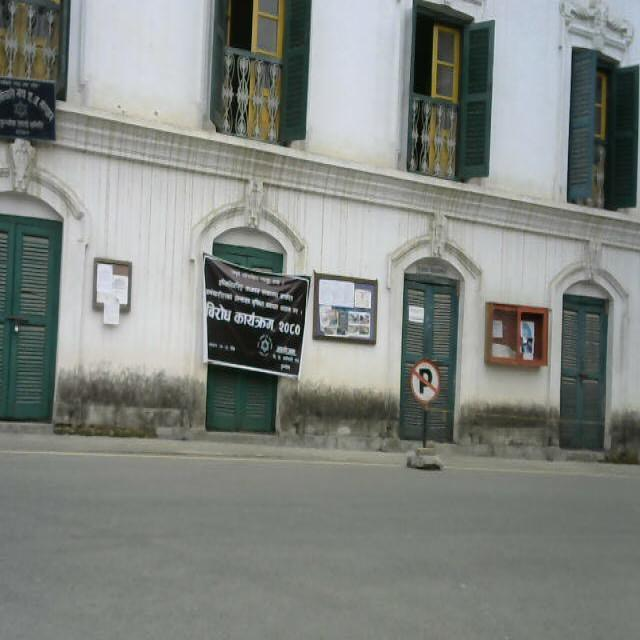Buildings: (0, 0, 404, 465), (461, 6, 640, 477)
NoParking: (407, 358, 463, 475)
Road: (14, 443, 640, 640)
